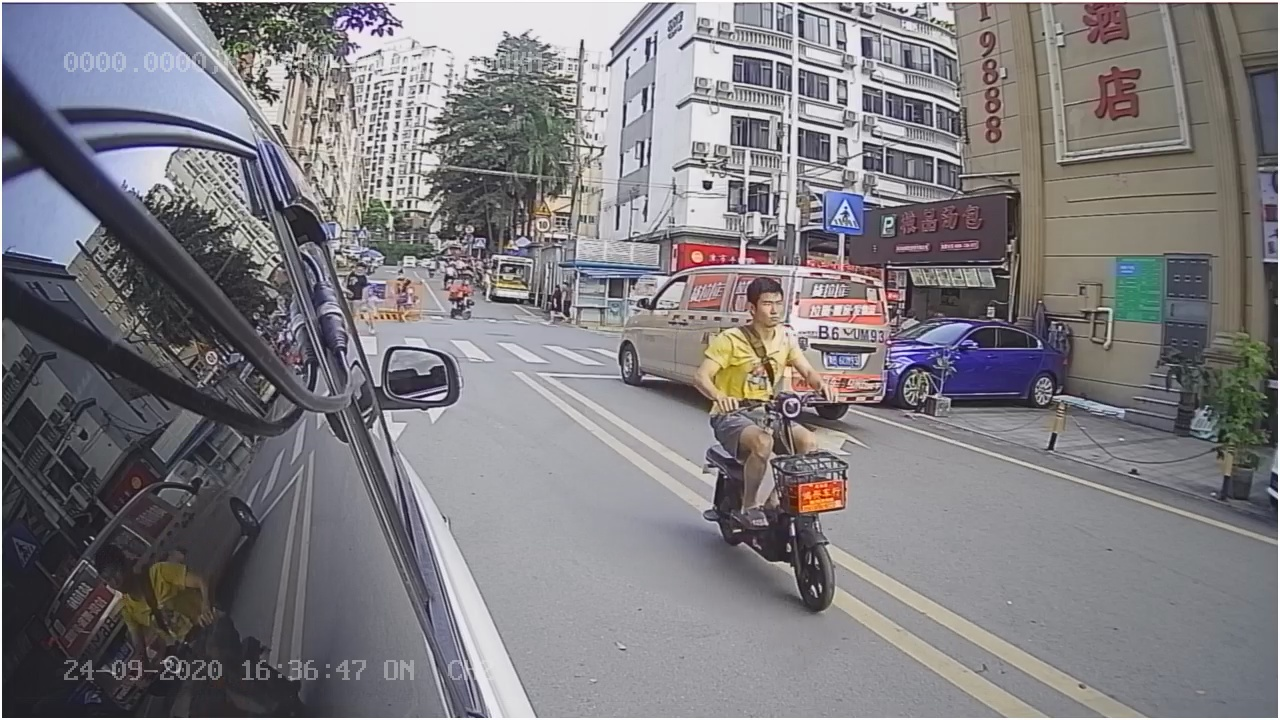person: (663, 265, 868, 636)
